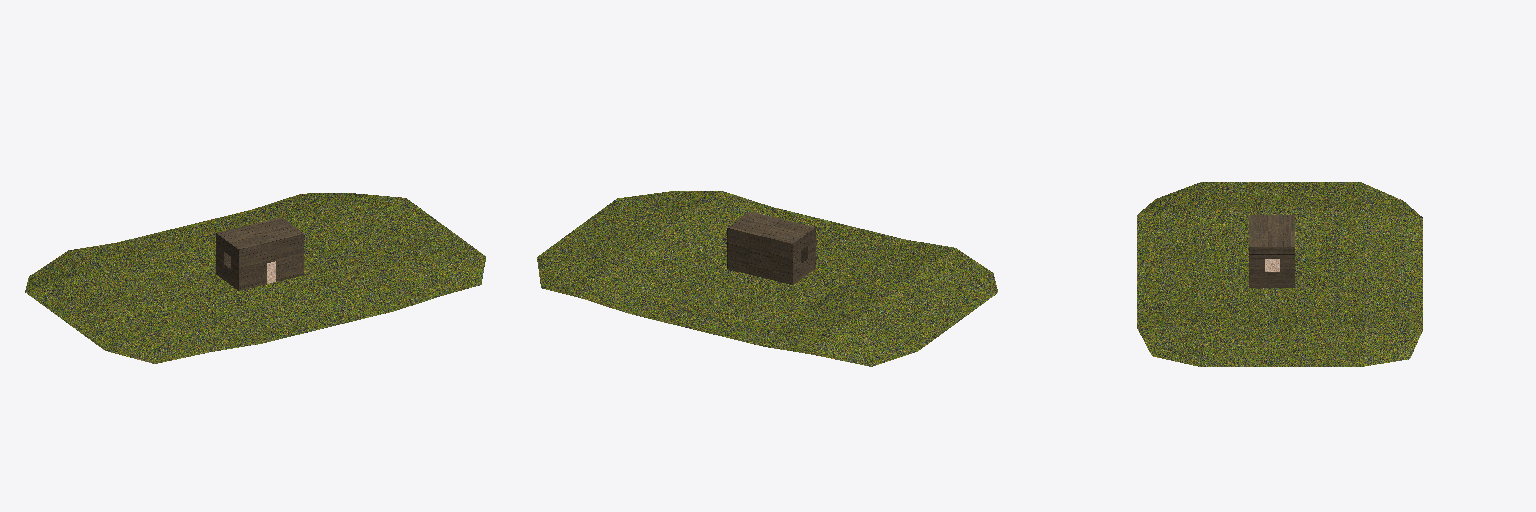
3 renders of one model, left to right at view 1: azimuth 30°, elevation 25°; view 2: azimuth 150°, elevation 25°; view 3: azimuth 270°, elevation 25°, orthographic.
Visible parts, largest first — view 1: Plane.002_Plane.006, Plane.001; view 2: Plane.002_Plane.006, Plane.001; view 3: Plane.002_Plane.006, Plane.001.
Part boxes in pixels (x1,y1,x2,y2): Plane.002_Plane.006: (25, 193, 485, 363); Plane.001: (216, 217, 303, 290); Plane.002_Plane.006: (537, 191, 997, 366); Plane.001: (727, 211, 815, 284); Plane.002_Plane.006: (1137, 182, 1422, 366); Plane.001: (1249, 215, 1294, 287).
Size of the model in its own units: 58.06 by 7.41 by 37.61.
3 materials, 3 textured.